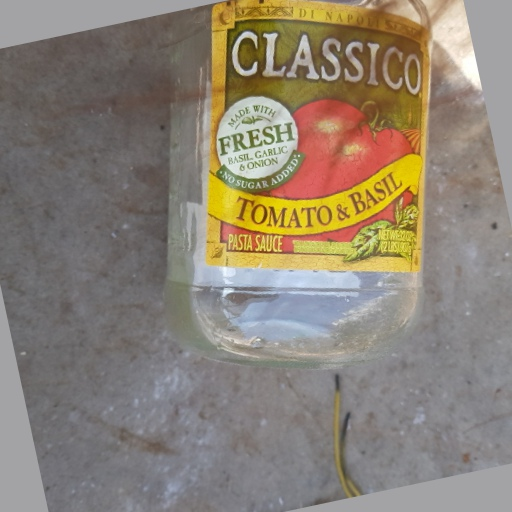Glass_5: (161, 1, 431, 368)
